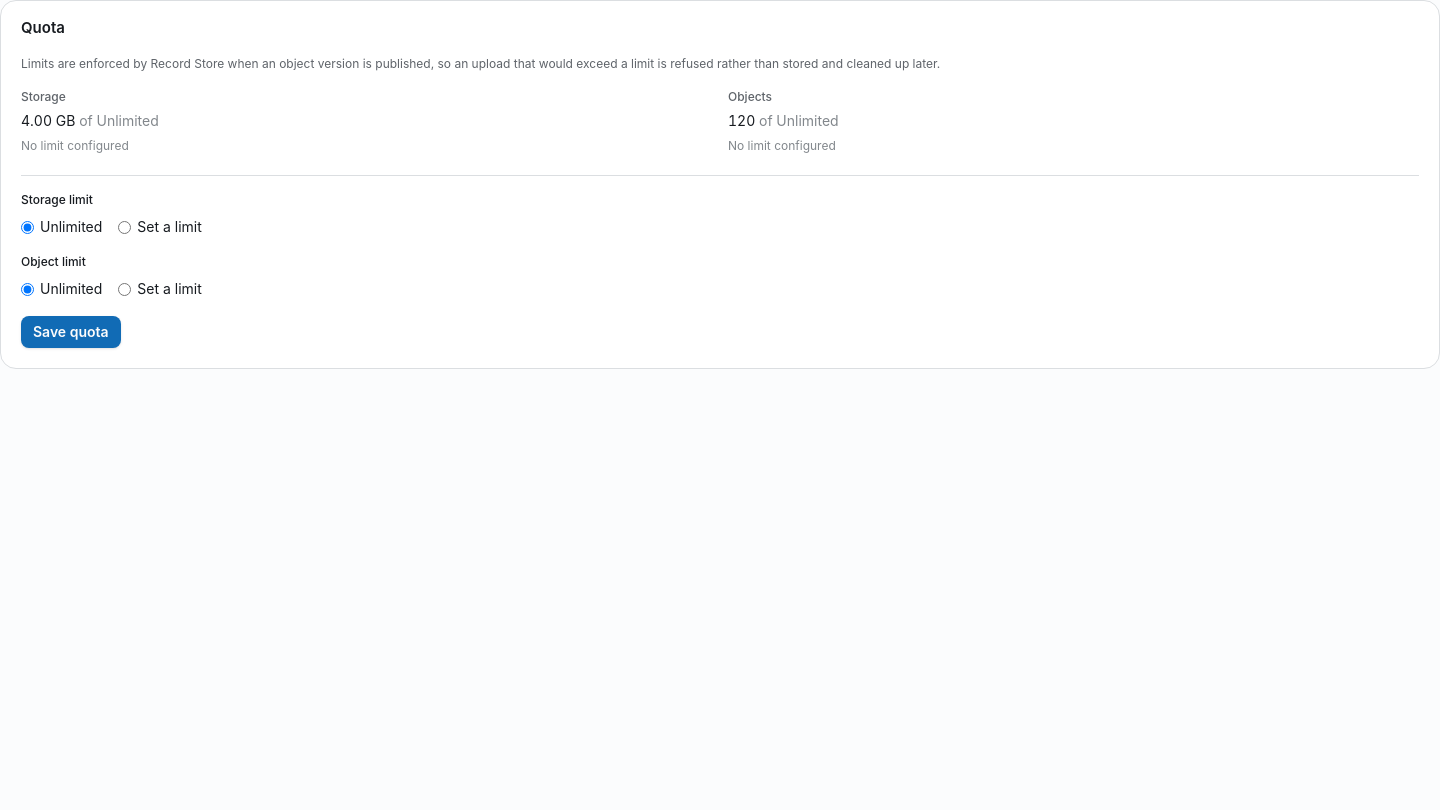
Scenario: QuotaSection › surfaces the backend refusal rather than a generic message
Click the radio button labelled "Set a limit" below "Storage limit": (125, 227) [118,220,131,234]
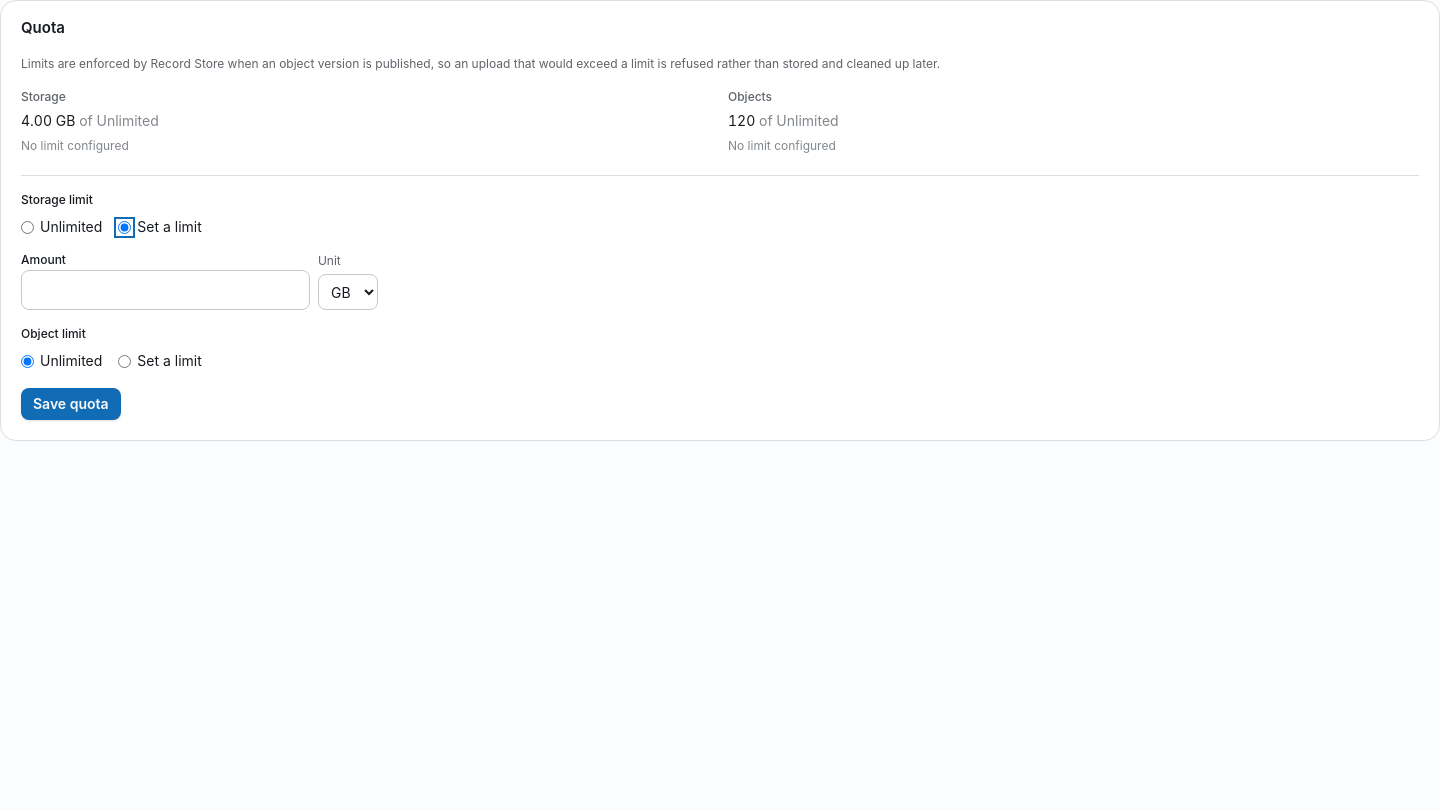
In the field labelled "Amount": (165, 290) [21,270,310,310], type "1"
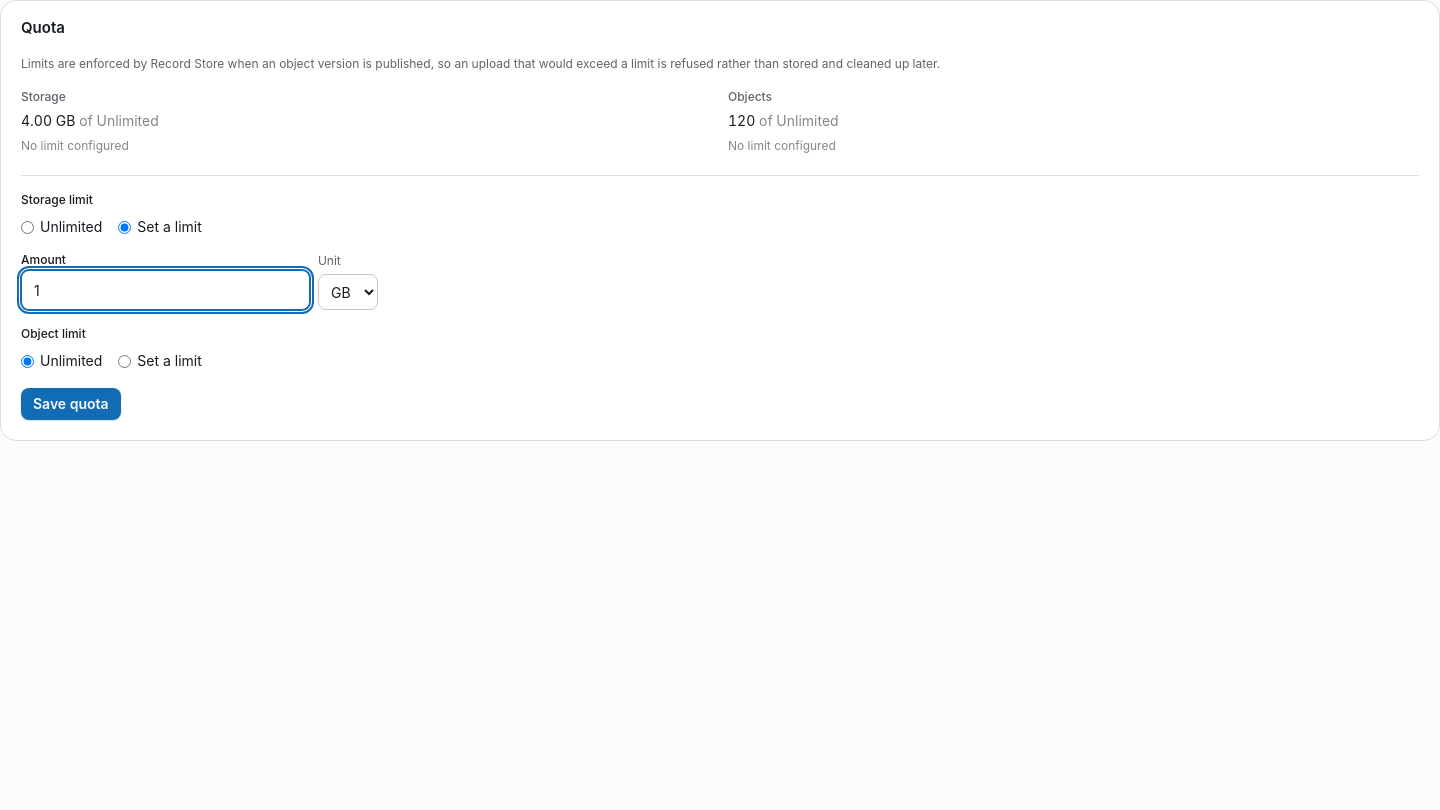
Click the button "Save quota": (71, 404) [21,388,121,420]
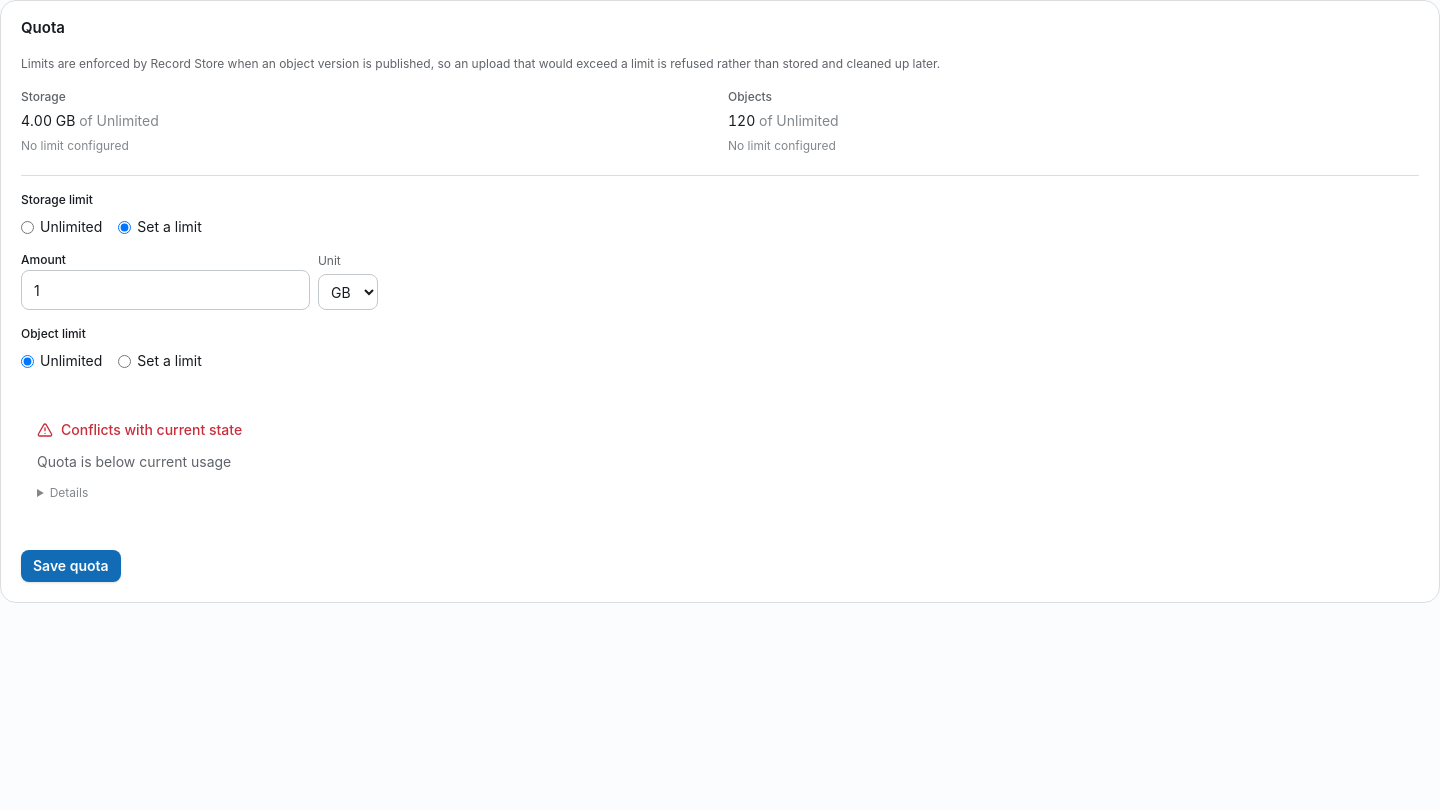
Expected: the text "Quota is below current usage" is shown, [37,452,231,472]
